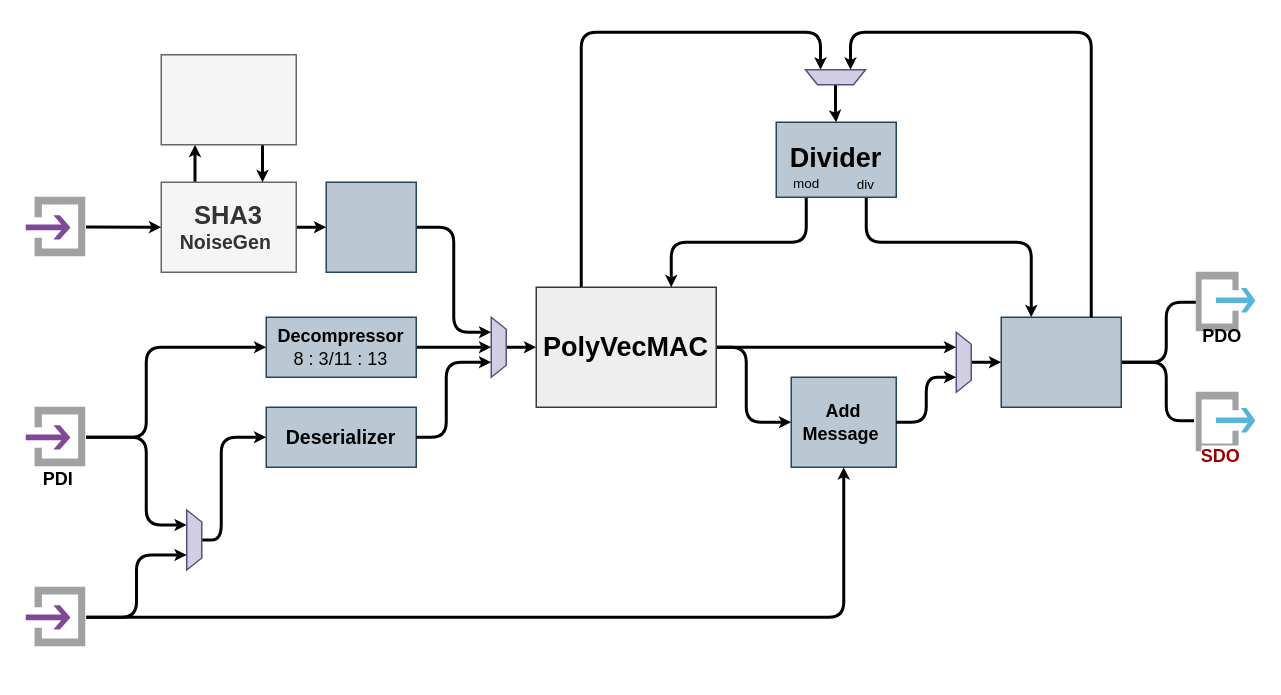
This 1281x695 diagram has some shape labels left out. The shapes that lost their labels are listed below. From the top down, each one's centre as x and y in pixels, then its label:
At (x=228, y=99): "Keccak".
At (x=56, y=226): "RDI".
At (x=370, y=226): "CBD Sampler".
At (x=1060, y=361): "Compressor 13 : 3/11/1 : 8".
At (x=56, y=616): "SDI".
